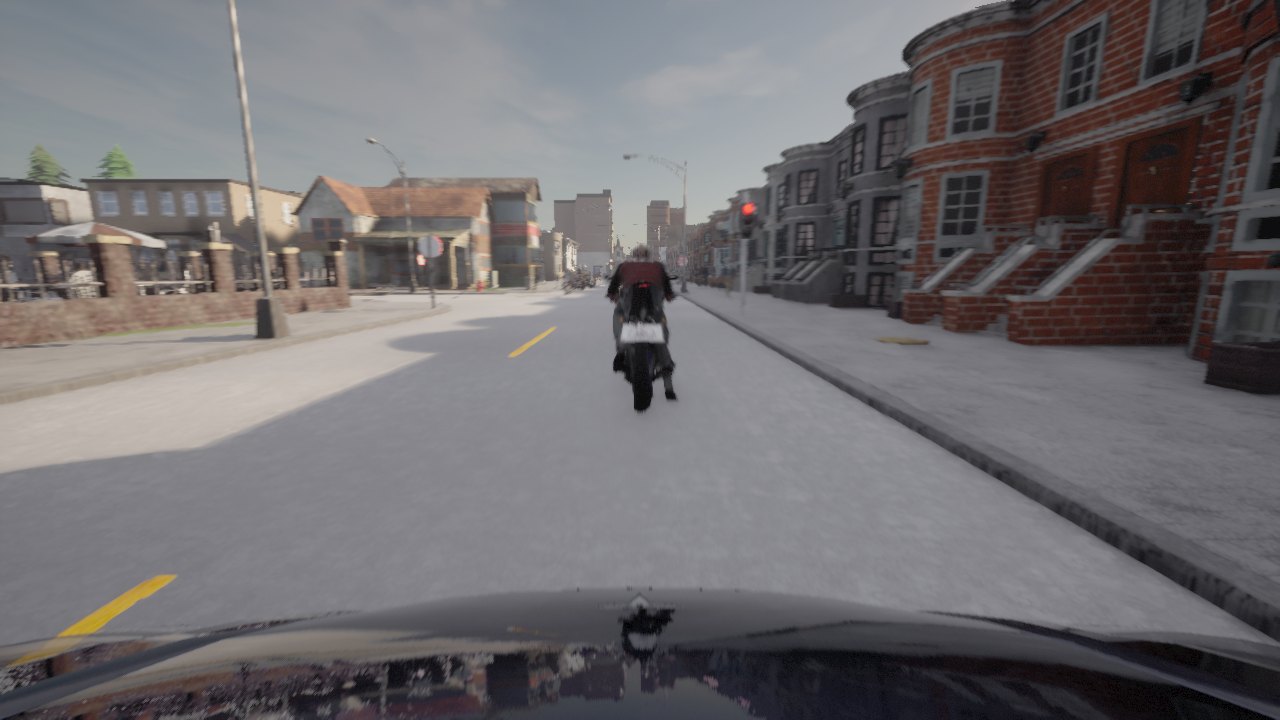cyclist: (0, 588, 1279, 719), (604, 274, 678, 412), (560, 273, 573, 295), (574, 274, 586, 289), (582, 274, 594, 287)
pedestrian: (723, 259, 736, 296), (701, 263, 709, 288), (533, 262, 539, 289), (689, 266, 694, 283)
